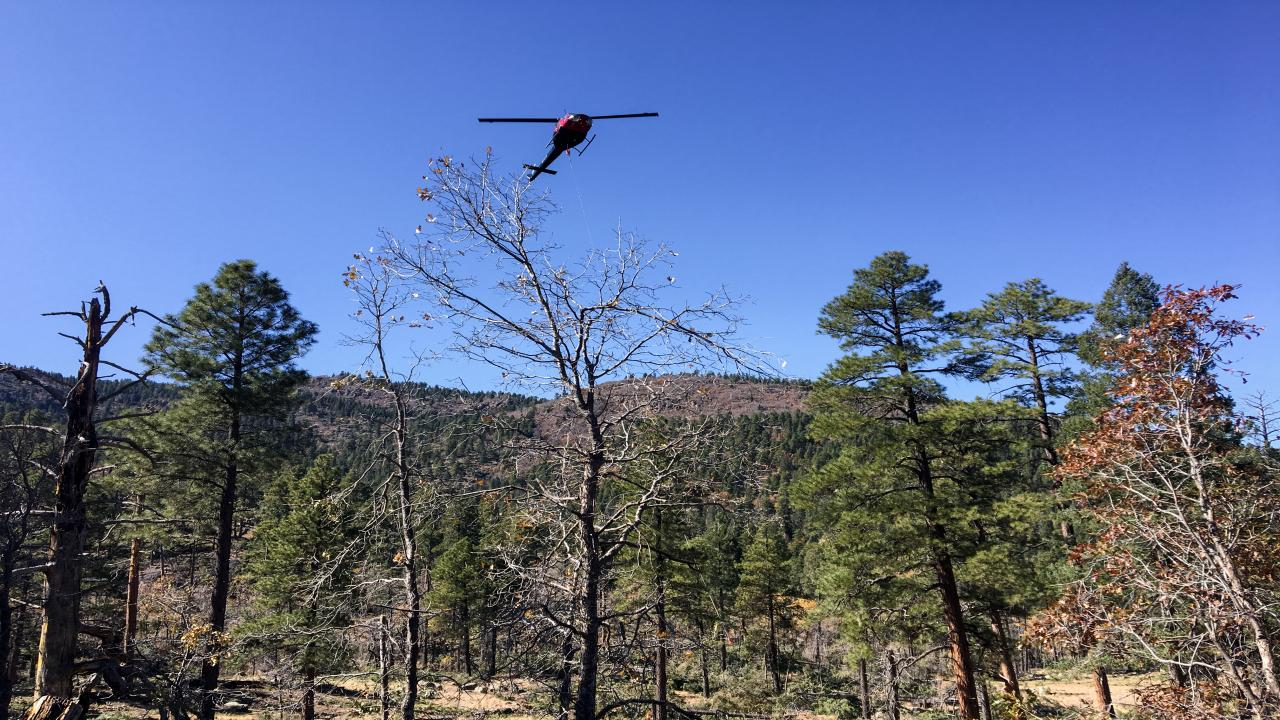Helicopter: (464, 94, 680, 197)
